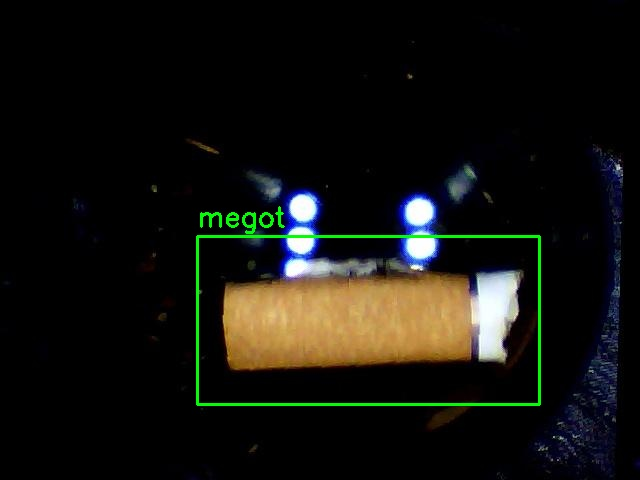megot: (197, 236, 539, 404)
